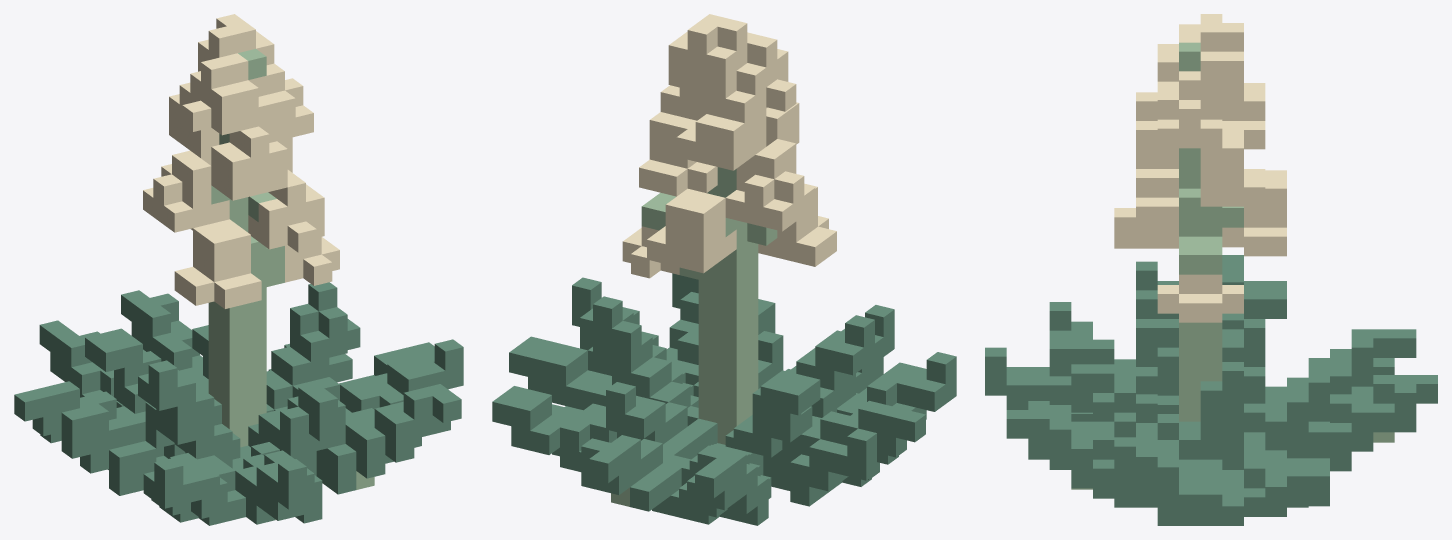
Rendered from flowering_yucca.glb.
3 views of the same model, side by side, from view 1: azimuth 30°, elevation 25°; view 2: azimuth 150°, elevation 25°; view 3: azimuth 270°, elevation 25° (orthographic). The views are drawn at different scales.
Size of the model in its own units: 0.9167 by 0.9583 by 0.875.
